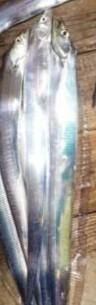fish: (48, 19, 77, 304)
